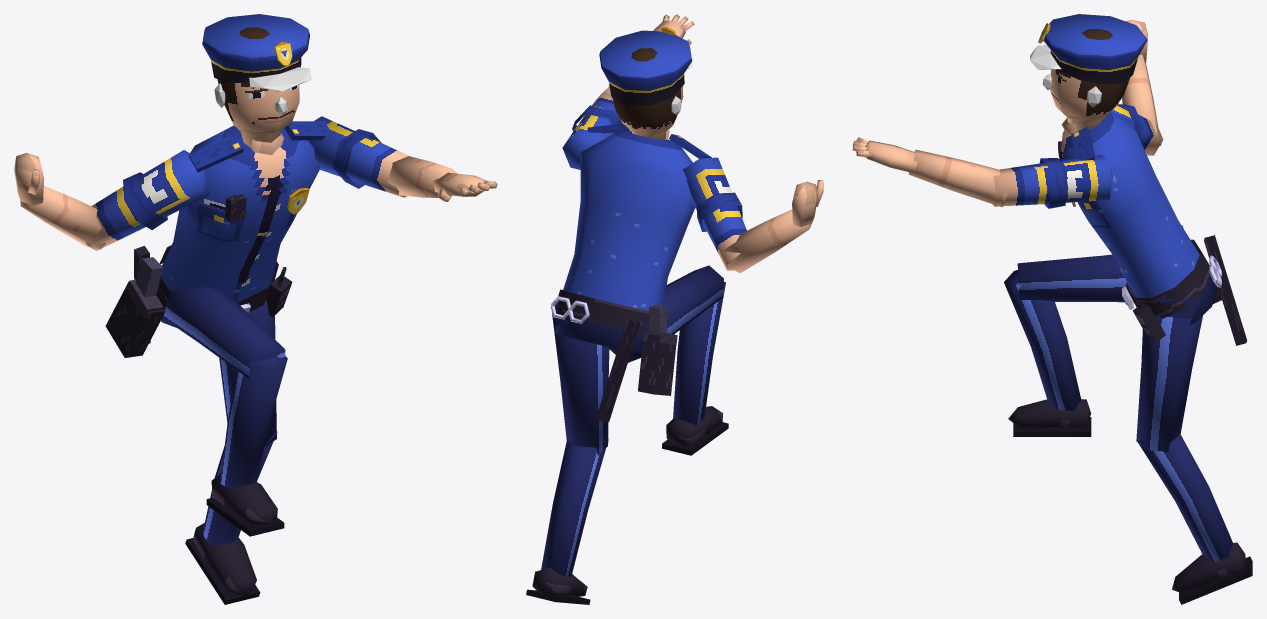
The model's file is Police Officer Climb.fbx.
3 views of the same model, side by side, from view 1: azimuth 30°, elevation 25°; view 2: azimuth 150°, elevation 25°; view 3: azimuth 270°, elevation 25° (orthographic). The views are drawn at different scales.
Parts seen in each view (by area): view 1: Police Officer Climb torso, Police Officer Climb thigh R, Police Officer Climb cap crown, Police Officer Climb shin R.001, Police Officer Climb upper arm R, Police Officer Climb head.001, Police Officer Climb upper arm L, Police Officer Climb forearm R.001, Police Officer Climb shoe L, Police Officer Climb holster.001, Police Officer Climb shoe R, Police Officer Climb forearm L.001 (+14 smaller); view 2: Police Officer Climb torso, Police Officer Climb cap crown, Police Officer Climb thigh L, Police Officer Climb shin L.001, Police Officer Climb shin R.001, Police Officer Climb upper arm R, Police Officer Climb thigh R, Police Officer Climb forearm R.001, Police Officer Climb head.001, Police Officer Climb holster.001, Police Officer Climb duty belt, Police Officer Climb upper arm L (+9 smaller); view 3: Police Officer Climb torso, Police Officer Climb thigh L, Police Officer Climb cap crown, Police Officer Climb shin L.001, Police Officer Climb shin R.001, Police Officer Climb thigh R, Police Officer Climb upper arm L, Police Officer Climb head.001, Police Officer Climb forearm L.001, Police Officer Climb duty belt, Police Officer Climb shoe L, Police Officer Climb shoe R (+10 smaller).
Part boxes in pixels (<box>): Police Officer Climb torso: <box>161,125,320,327</box>; Police Officer Climb thigh R: <box>161,265,285,378</box>; Police Officer Climb cap crown: <box>202,14,309,83</box>; Police Officer Climb shin R.001: <box>220,355,287,488</box>; Police Officer Climb upper arm R: <box>85,150,209,250</box>; Police Officer Climb head.001: <box>217,27,299,147</box>; Police Officer Climb upper arm L: <box>308,116,408,197</box>; Police Officer Climb forearm R.001: <box>20,186,105,249</box>; Police Officer Climb shoe L: <box>193,523,256,595</box>; Police Officer Climb holster.001: <box>105,282,165,357</box>; Police Officer Climb shoe R: <box>211,473,277,525</box>; Police Officer Climb forearm L.001: <box>387,156,456,197</box>; Police Officer Climb torso: <box>554,130,695,354</box>; Police Officer Climb cap crown: <box>599,30,691,105</box>; Police Officer Climb thigh L: <box>552,305,609,455</box>; Police Officer Climb shin L.001: <box>541,439,608,576</box>; Police Officer Climb shin R.001: <box>673,282,725,424</box>; Police Officer Climb upper arm R: <box>683,157,746,270</box>; Police Officer Climb thigh R: <box>607,265,723,362</box>; Police Officer Climb forearm R.001: <box>722,209,811,273</box>; Police Officer Climb head.001: <box>612,48,683,139</box>; Police Officer Climb holster.001: <box>638,334,676,395</box>; Police Officer Climb duty belt: <box>556,289,648,334</box>; Police Officer Climb upper arm L: <box>562,89,622,169</box>; Police Officer Climb torso: <box>1060,111,1218,324</box>; Police Officer Climb thigh L: <box>1136,291,1207,451</box>; Police Officer Climb cap crown: <box>1042,14,1147,84</box>; Police Officer Climb shin L.001: <box>1138,434,1232,562</box>; Police Officer Climb shin R.001: <box>1004,270,1081,410</box>; Police Officer Climb thigh R: <box>1017,254,1126,302</box>; Police Officer Climb upper arm L: <box>992,155,1112,206</box>; Police Officer Climb head.001: <box>1050,29,1129,130</box>; Police Officer Climb forearm L.001: <box>908,149,1007,206</box>; Police Officer Climb duty belt: <box>1125,239,1210,318</box>; Police Officer Climb shoe L: <box>1172,542,1245,593</box>; Police Officer Climb shoe R: <box>1008,399,1091,427</box>.
Size of the model in its own units: 0.9702 by 1.74 by 1.13.
18 materials, 16 textured.
